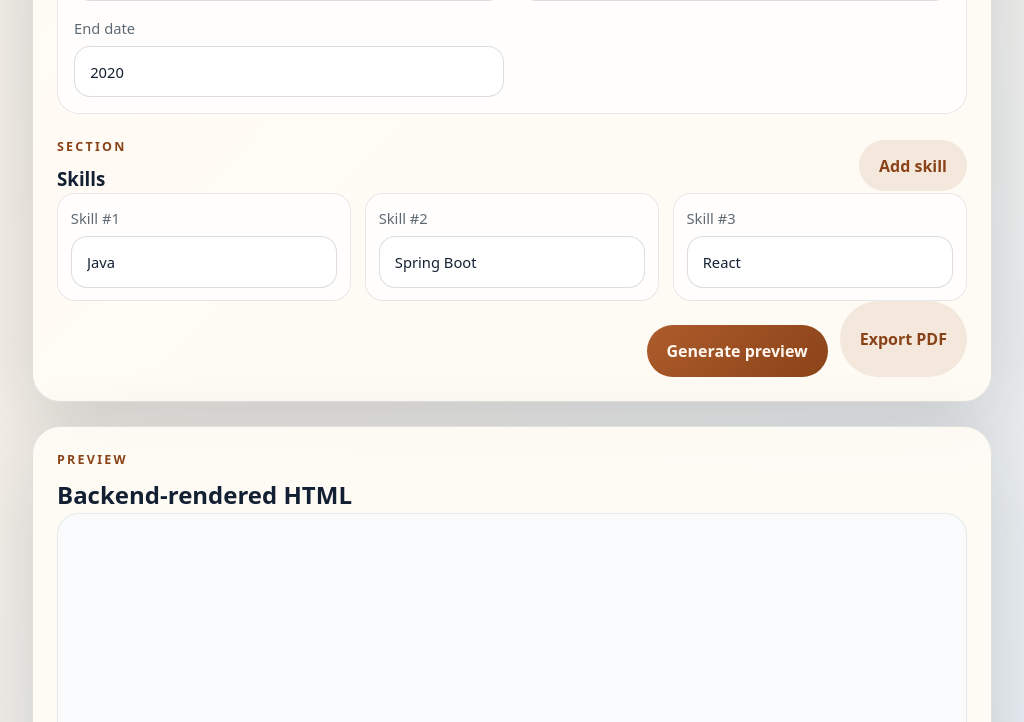
Test: App › shows pdf export error when backend export fails
The width and height of the screenshot is (1024, 722).
(page scrolled)
Click the button "Export PDF".
click(903, 339)  # box [840,301,967,376]
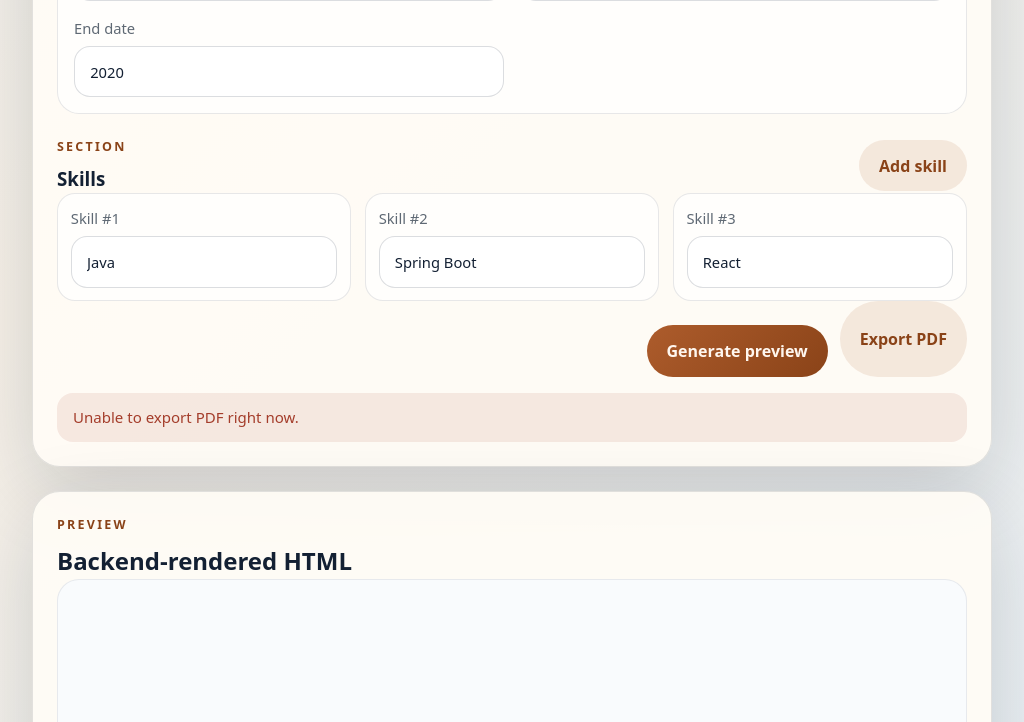
Expected: the text "Unable to export PDF right now." is shown, [57,392,967,442]
